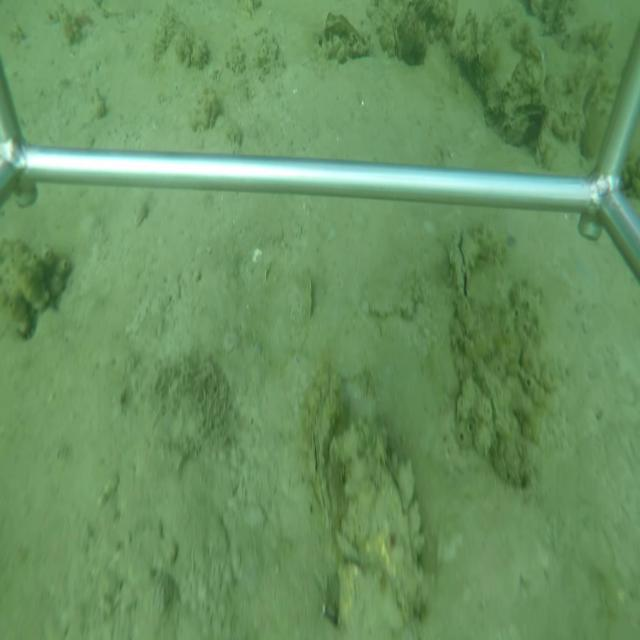Oyster-Closed: (309, 394, 339, 541), (387, 23, 401, 59), (303, 278, 314, 323)
Oyster-Indeterminate: (331, 427, 413, 632)
Oyster-Open: (450, 230, 477, 302)
